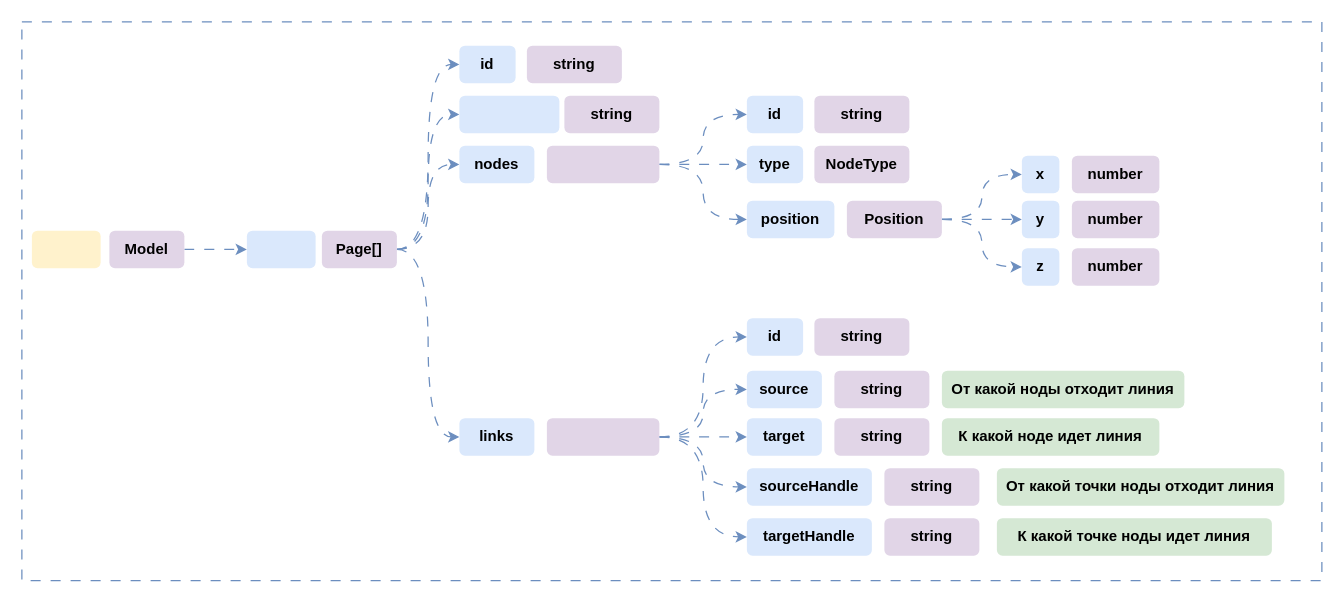
Image size: 1344x603. Some labels were removed from this diagram. Here are the shapes that lost their labels. From the top down, the centre of each, then its label:
At (x=509, y=113): "pageName".
At (x=602, y=163): "PageNode[]".
At (x=65, y=249): "dto".
At (x=280, y=249): "pages".
At (x=602, y=436): "Link[]".
